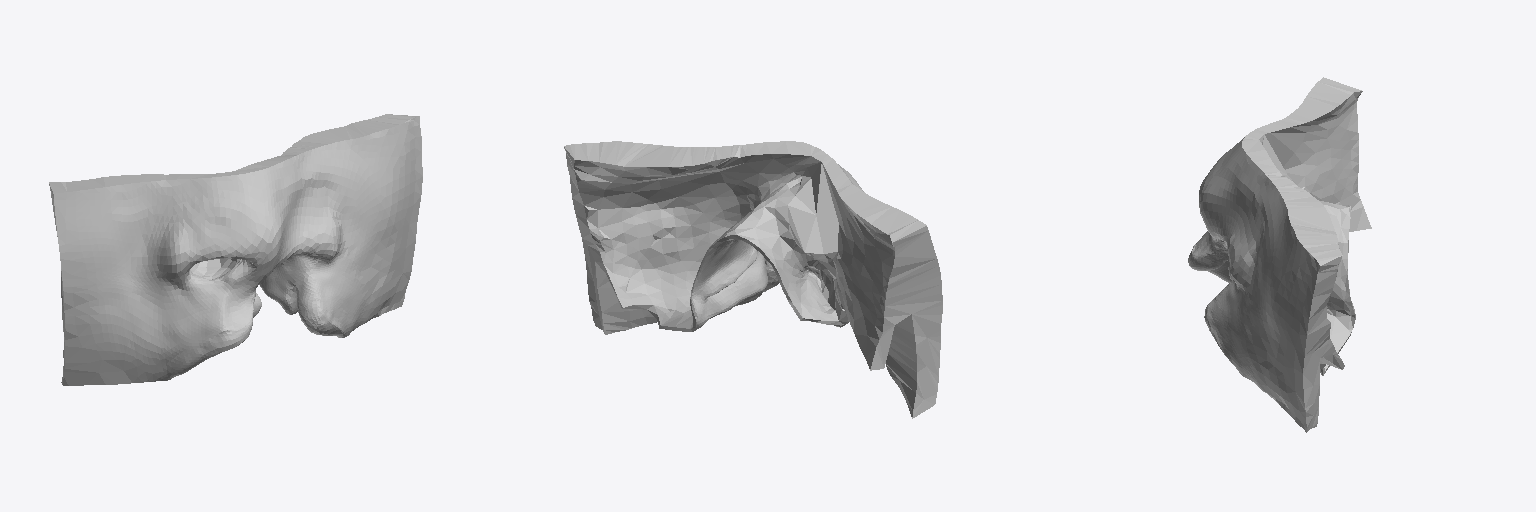
Rendered from unilatCompleteCleft_3.obj.
3 views of the same model, side by side, from view 1: azimuth 30°, elevation 25°; view 2: azimuth 150°, elevation 25°; view 3: azimuth 270°, elevation 25° (orthographic).
Bounding box in the file's own units: 4.23 × 2.27 × 1.83.